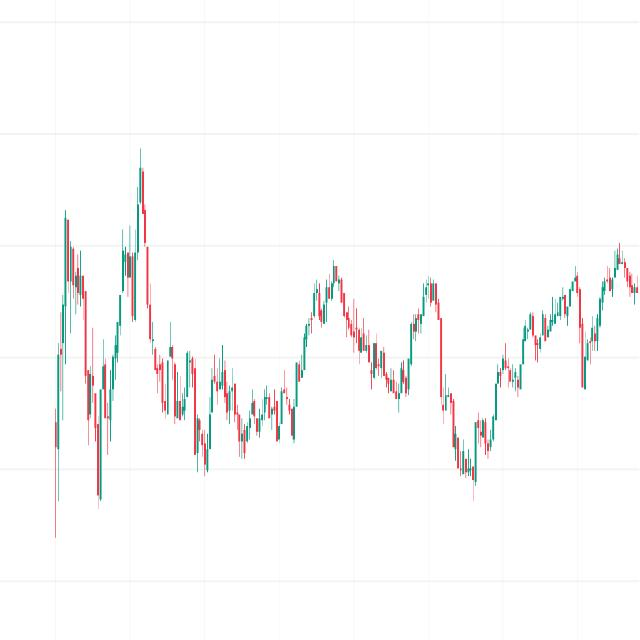Rounding-Bottom: (143, 253, 323, 489)
